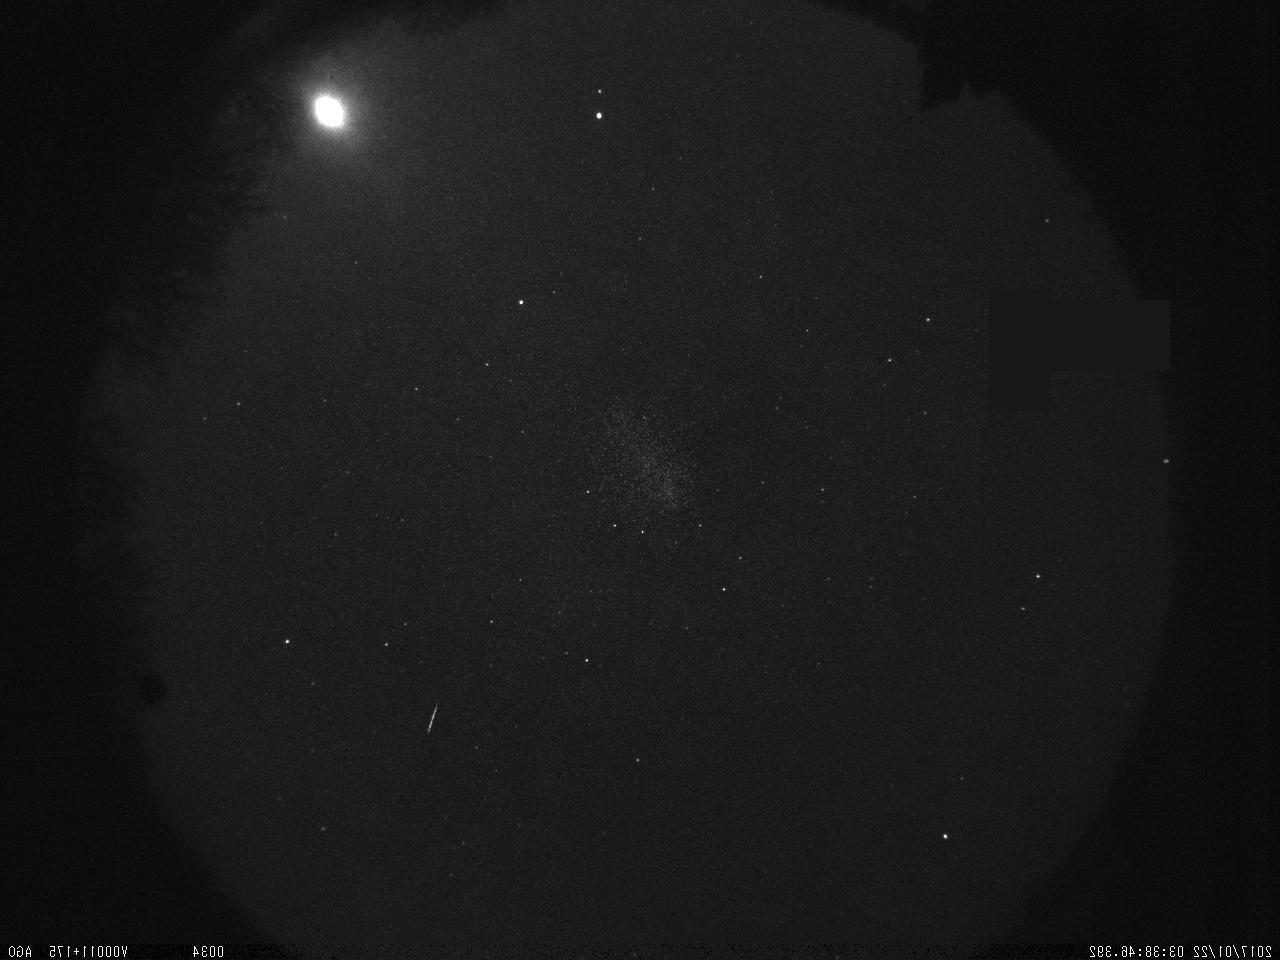meteor: (393, 690, 462, 754)
